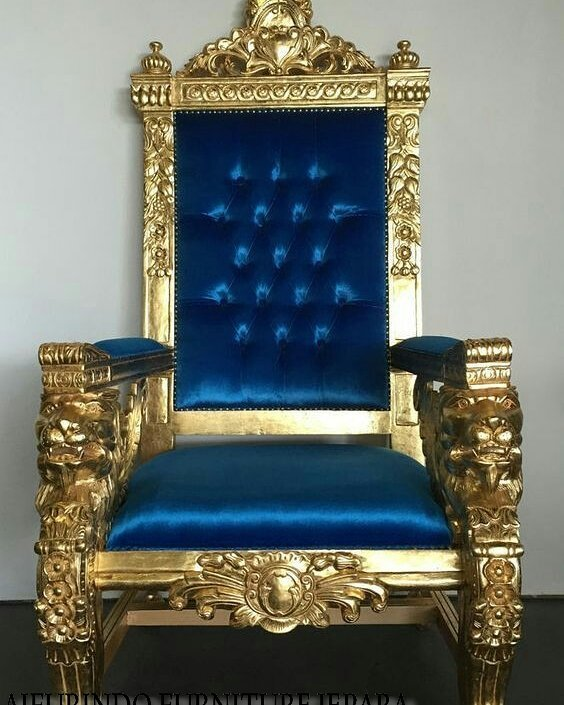Carving Chair: (42, 28, 516, 705)
